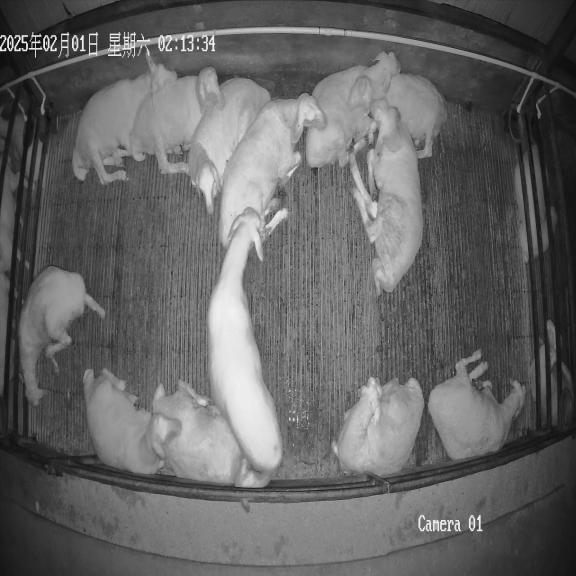lying: (219, 93, 324, 247), (350, 100, 423, 294), (72, 54, 177, 184), (153, 380, 270, 487), (188, 78, 270, 214), (306, 52, 400, 168), (428, 349, 526, 460), (83, 369, 181, 474), (129, 67, 224, 174), (332, 378, 424, 477), (347, 74, 448, 158)
stand: (207, 208, 282, 474)
